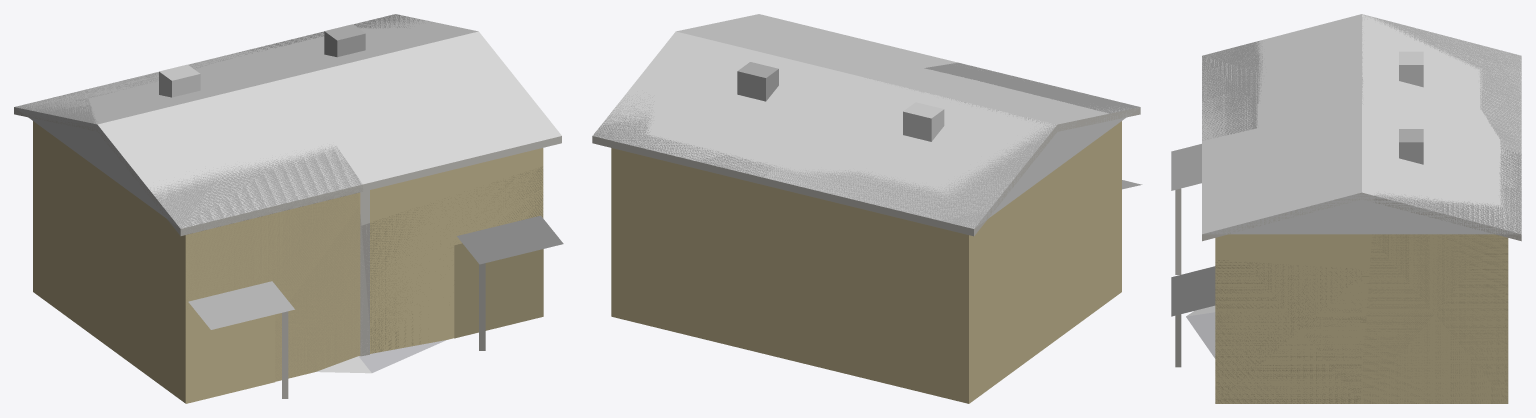
File: bld_duplex_a.glb
3 views of the same model, side by side, from view 1: azimuth 30°, elevation 25°; view 2: azimuth 150°, elevation 25°; view 3: azimuth 270°, elevation 25° (orthographic). The views are drawn at different scales.
Visible parts, largest first — view 1: damaged, chunk_00, chunk_01, intact, chunk_02, chunk_03, chunk_04, chunk_05, rubble; view 2: damaged, chunk_03, chunk_04, chunk_05, intact, chunk_00, chunk_01, chunk_02; view 3: chunk_05, chunk_02, damaged, intact, chunk_04, chunk_00, chunk_01, chunk_03, rubble.
Part boxes in pixels (x1,y1,x2,y2): damaged: (14,14,563,403); chunk_00: (97,92,307,403); chunk_01: (232,60,439,373); intact: (18,14,561,398); chunk_02: (363,31,543,340); chunk_03: (14,81,231,345); chunk_04: (195,44,362,91); chunk_05: (291,27,478,59); rubble: (316,340,446,373); damaged: (592,62,1142,402); chunk_03: (846,92,1057,403); chunk_04: (715,60,922,373); chunk_05: (611,31,790,321); intact: (593,14,1135,228); chunk_00: (923,80,1138,314); chunk_01: (792,48,976,91); chunk_02: (676,20,843,59); chunk_05: (1361,138,1520,403); chunk_02: (1203,138,1361,403); damaged: (1171,14,1521,403); intact: (1202,17,1521,403); chunk_04: (1361,77,1501,174); chunk_00: (1255,14,1361,103); chunk_01: (1253,77,1361,165); chunk_03: (1361,14,1482,107); rubble: (1186,305,1215,358).
Bounding box in the file's own units: 12 × 7 × 9.95.
